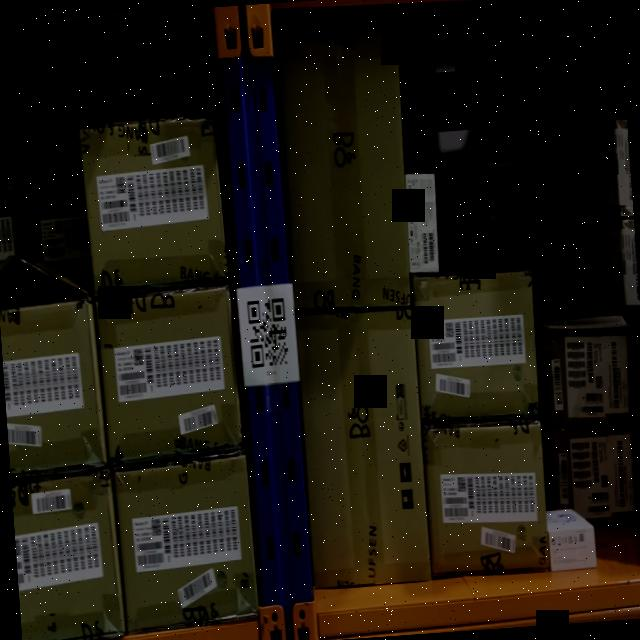box: (274, 21, 414, 314), (292, 300, 430, 578), (95, 287, 248, 461), (78, 115, 230, 286), (114, 459, 256, 626), (412, 268, 540, 431), (422, 418, 550, 578), (14, 469, 124, 640), (0, 298, 105, 463), (542, 319, 631, 422), (481, 154, 556, 233)
